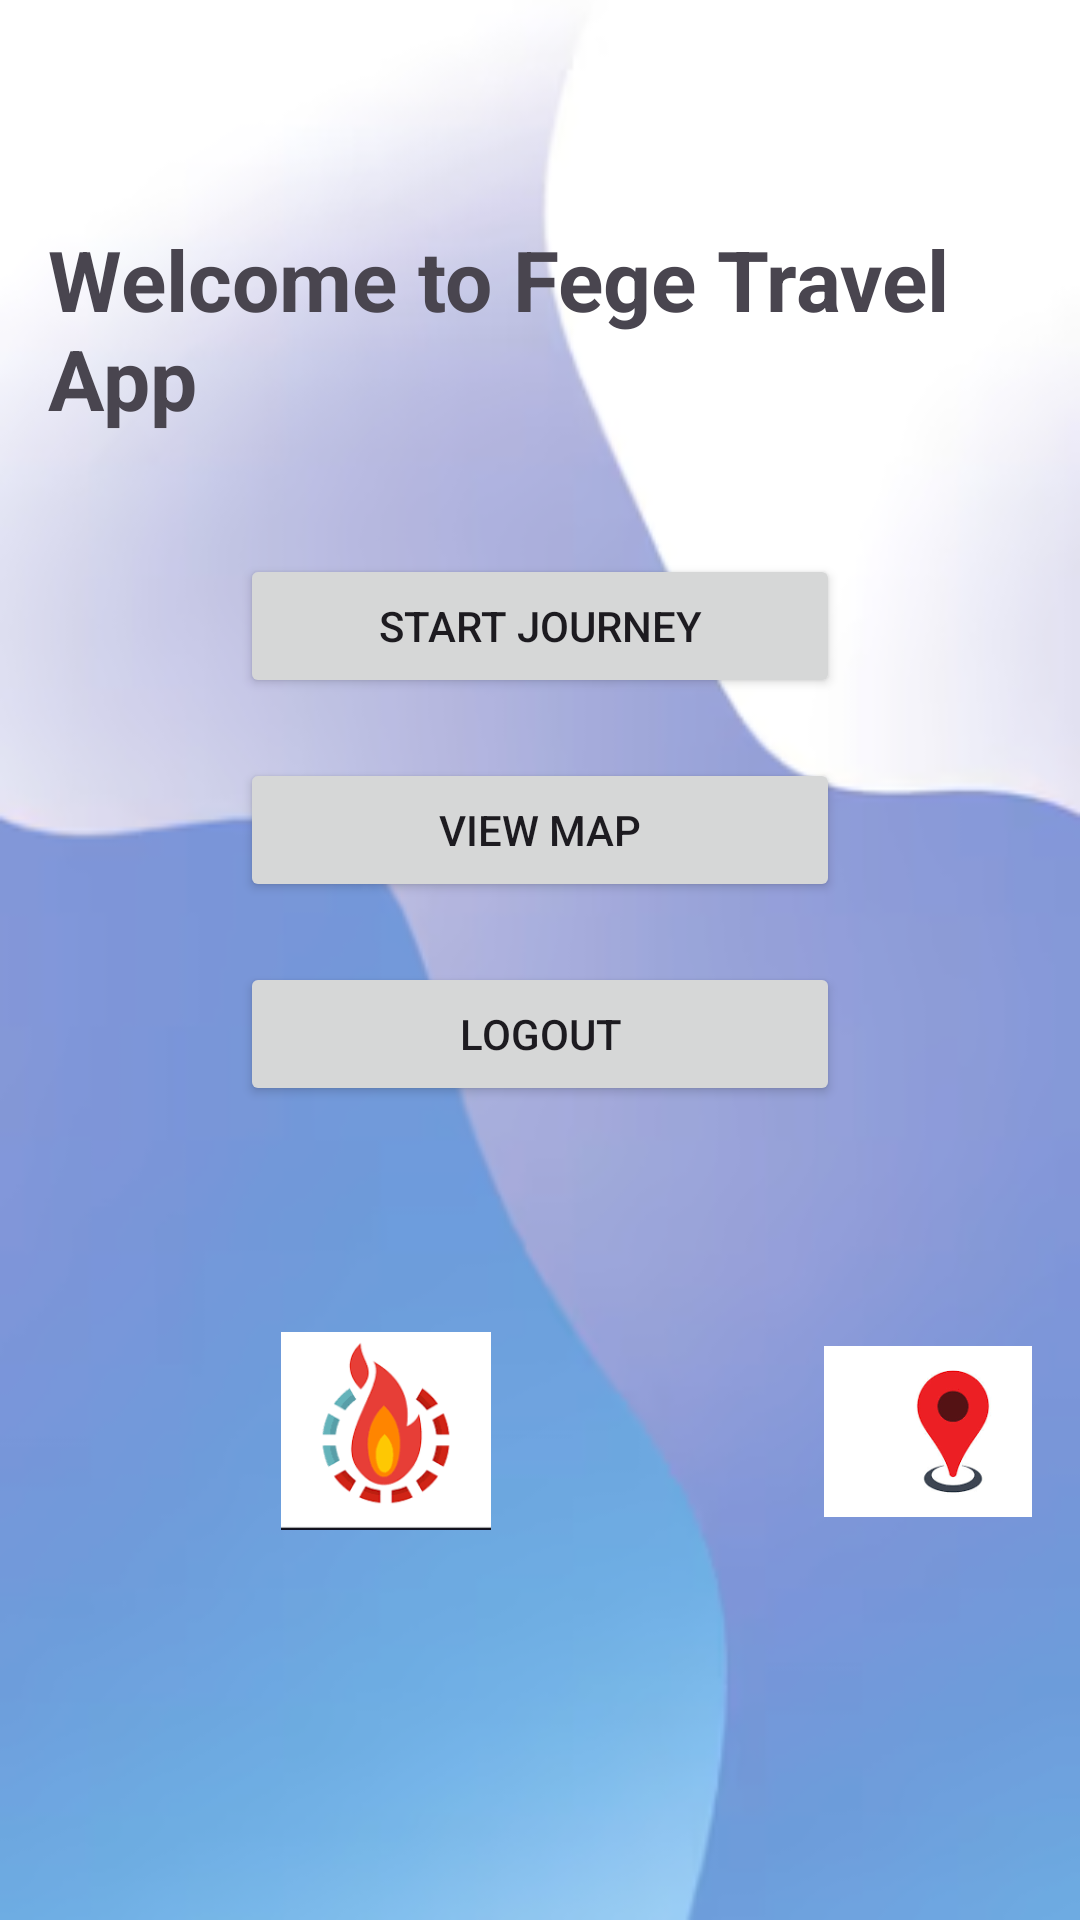

Icon bounding boxes for this 1080w x 1920h phone screenshot, format [x1, y1, x2, y2]:
calorie: [281, 1332, 491, 1530]
